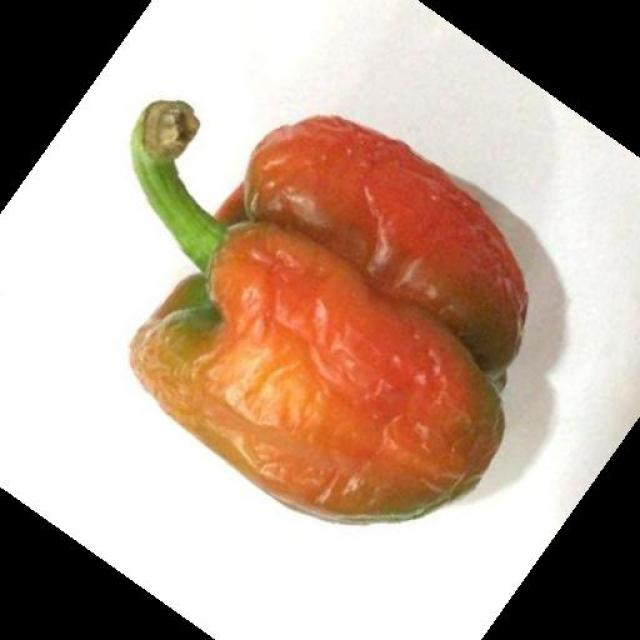Stale_Capsicum: (104, 70, 542, 538)
